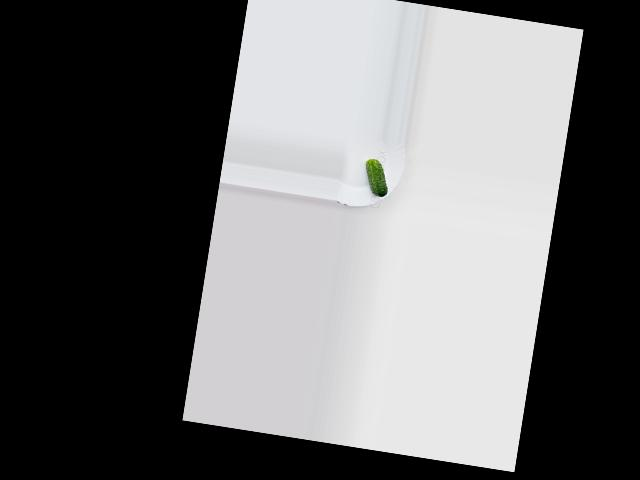cucumber: (361, 158, 391, 197)
